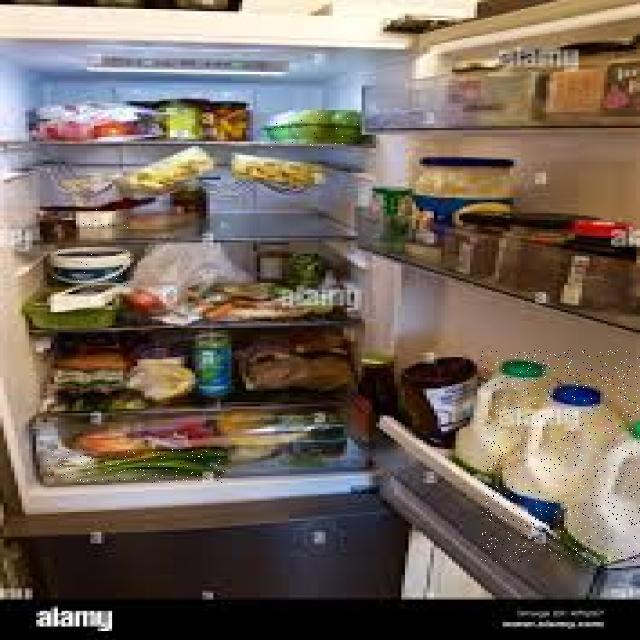butter: (76, 209, 134, 229)
eggs: (268, 110, 362, 150)
milk: (481, 350, 640, 562)
spring onion: (46, 449, 226, 483)
yoghurt: (51, 249, 130, 287)
